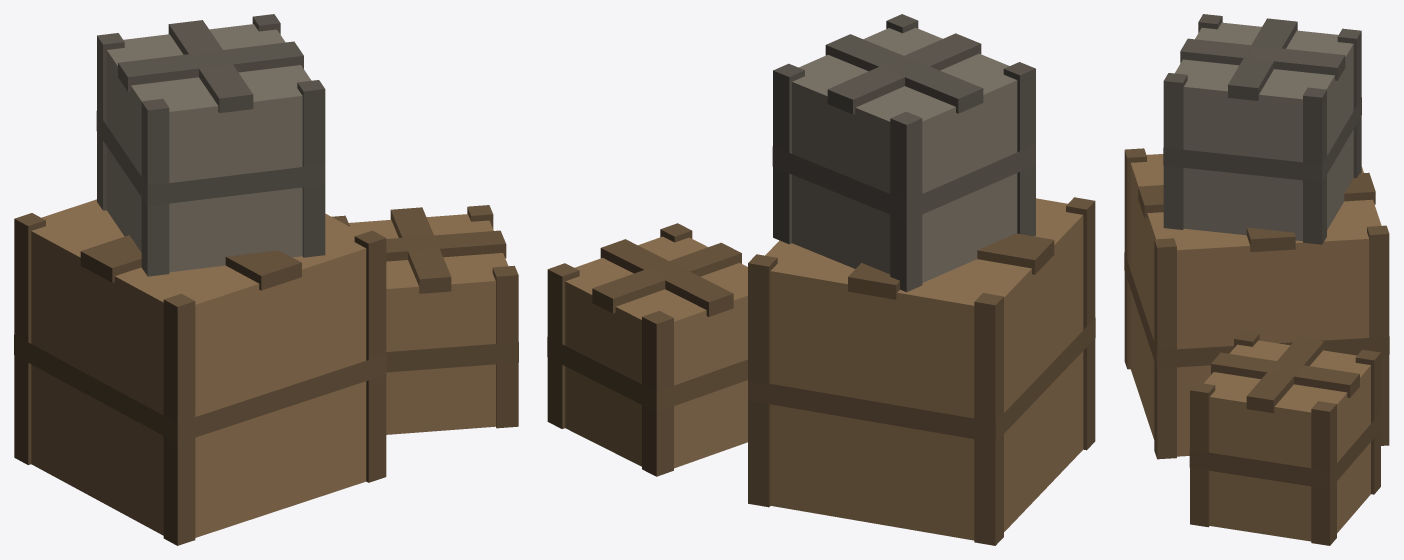
The model's file is crate.glb.
3 renders of one model, left to right at view 1: azimuth 30°, elevation 25°; view 2: azimuth 150°, elevation 25°; view 3: azimuth 270°, elevation 25°, orthographic. The views are drawn at different scales.
Visible parts, largest first — view 1: crate; view 2: crate; view 3: crate.
Part boxes in pixels (<box>): crate: <box>14,14,518,545</box>; crate: <box>547,14,1095,545</box>; crate: <box>1124,14,1389,545</box>.
Bounding box in the file's own units: 1.65 × 1.38 × 0.9318.
